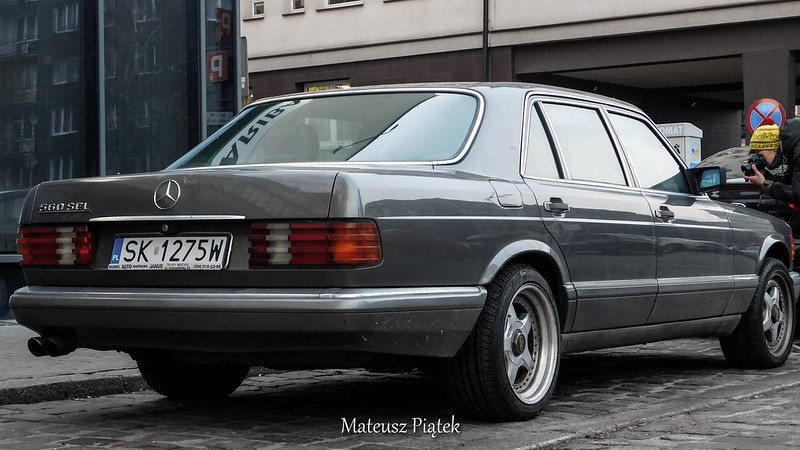car: (18, 75, 800, 418)
